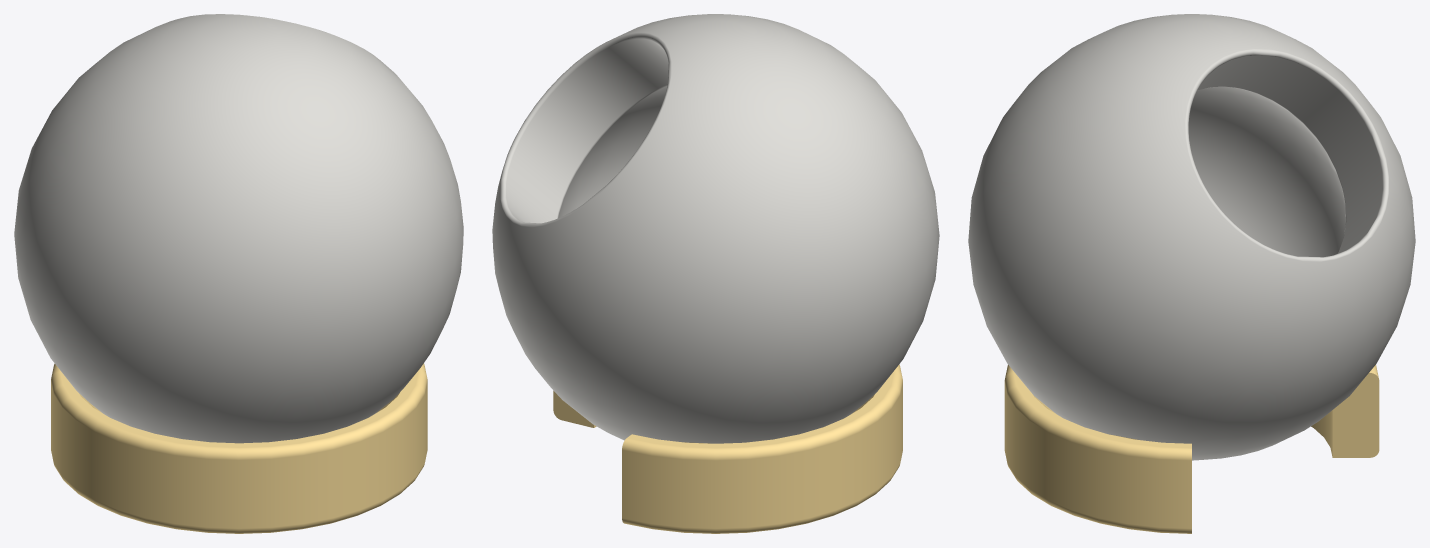
The model's file is ball.glb.
3 renders of one model, left to right at view 1: azimuth 30°, elevation 25°; view 2: azimuth 150°, elevation 25°; view 3: azimuth 270°, elevation 25°, orthographic.
Visible parts, largest first — view 1: Solid (×2); view 2: Solid (×2); view 3: Solid (×2).
Boxes of the visible parts, <box> form: Solid (×2): <box>14,14,463,533</box>; Solid (×2): <box>492,14,939,533</box>; Solid (×2): <box>968,14,1415,533</box>.
Size of the model in its own units: 23.87 by 24.95 by 23.88.
